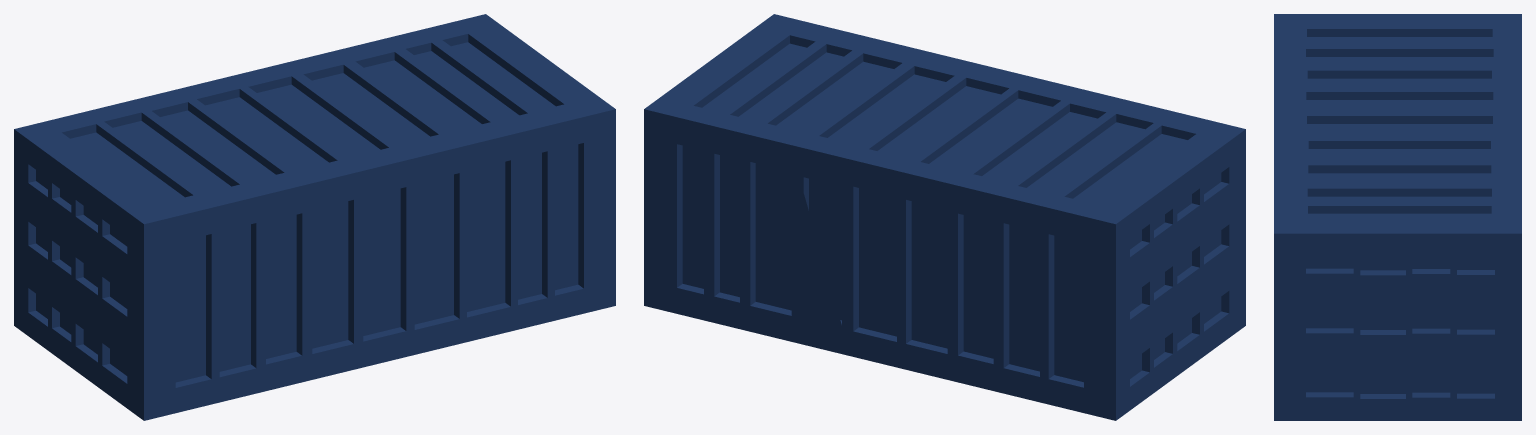
Rendered from iz_container2_v2.fbx.
3 renders of one model, left to right at view 1: azimuth 30°, elevation 25°; view 2: azimuth 150°, elevation 25°; view 3: azimuth 270°, elevation 25°, orthographic. The views are drawn at different scales.
Visible parts, largest first — view 1: Cube; view 2: Cube; view 3: Cube.
Boxes of the visible parts, x1,y1,x2,y2 form: Cube: [14, 14, 615, 420]; Cube: [644, 14, 1245, 420]; Cube: [1274, 14, 1521, 420].
Bounding box in the file's own units: 1978 × 788 × 944.
